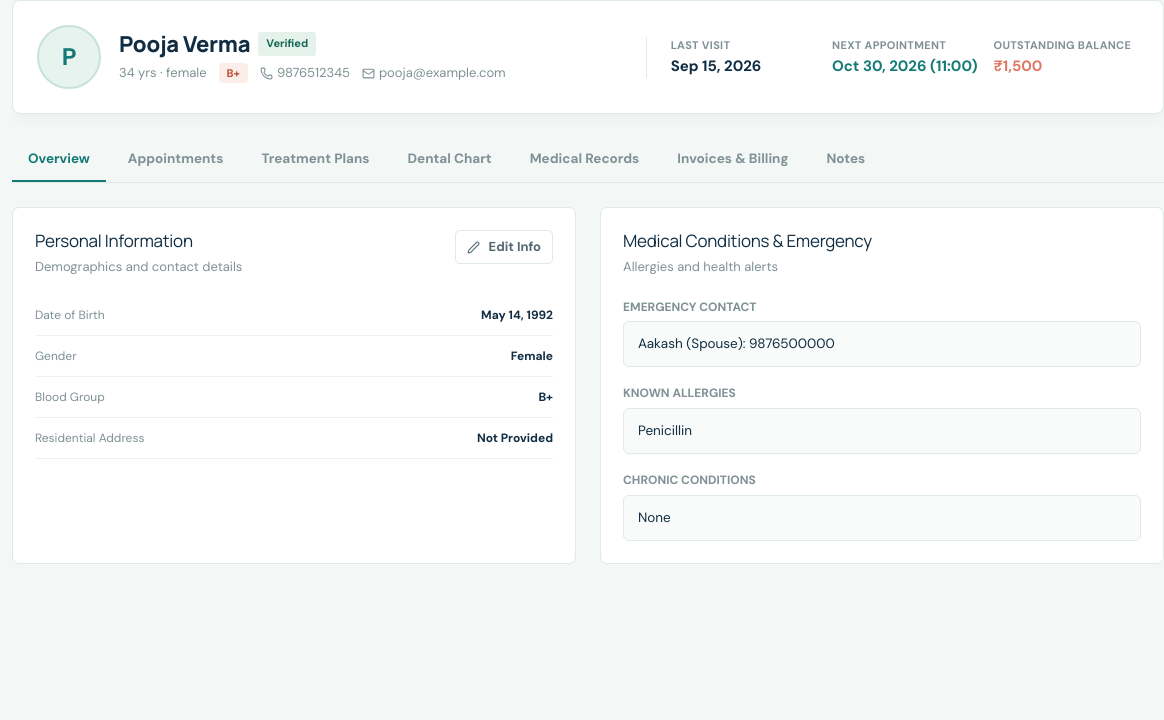
Test: Patient, Admin and Staff Views › Patient 360 summary & history › renders patient header and switches across overview, appointments and billing tabs
This screenshot has width=1164, height=720.
Expected: the heading "Pooja Verma" is shown, [119, 30, 250, 57]
Expected: the text "9876512345" is shown, [260, 63, 350, 83]
# Click Appointments tab
Click the button "Appointments": x=176, y=160 [112, 138, 239, 182]
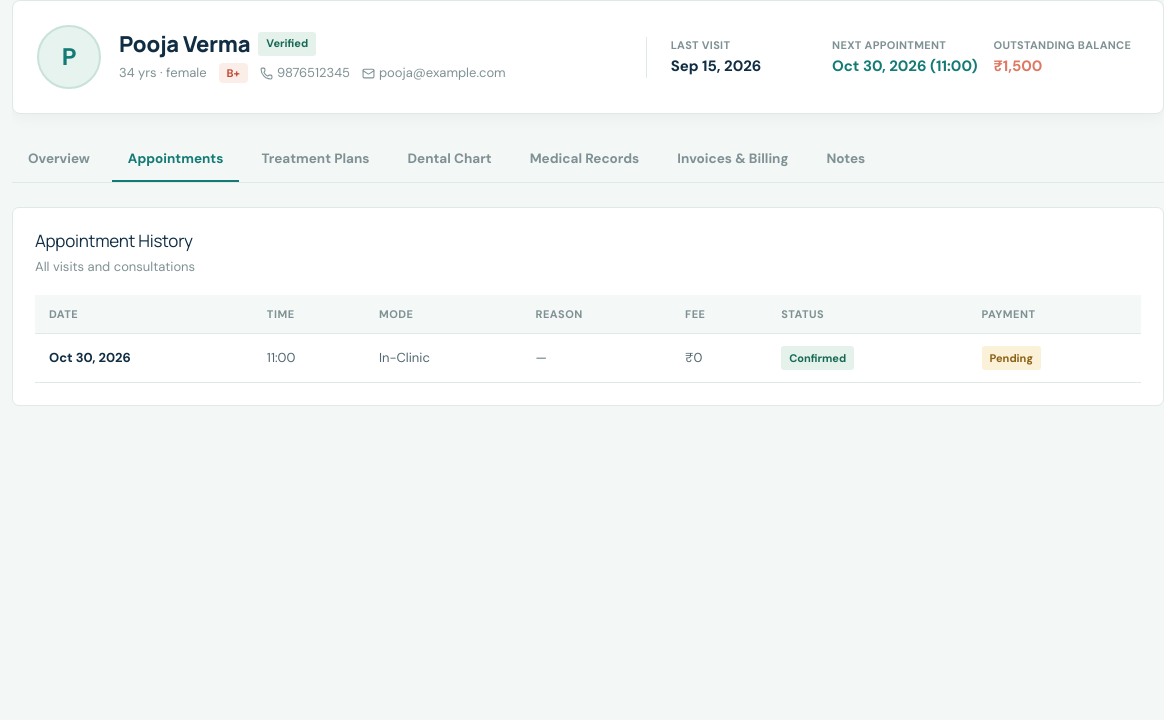
Expected: the text "11:00" is shown, [253, 334, 365, 383]
